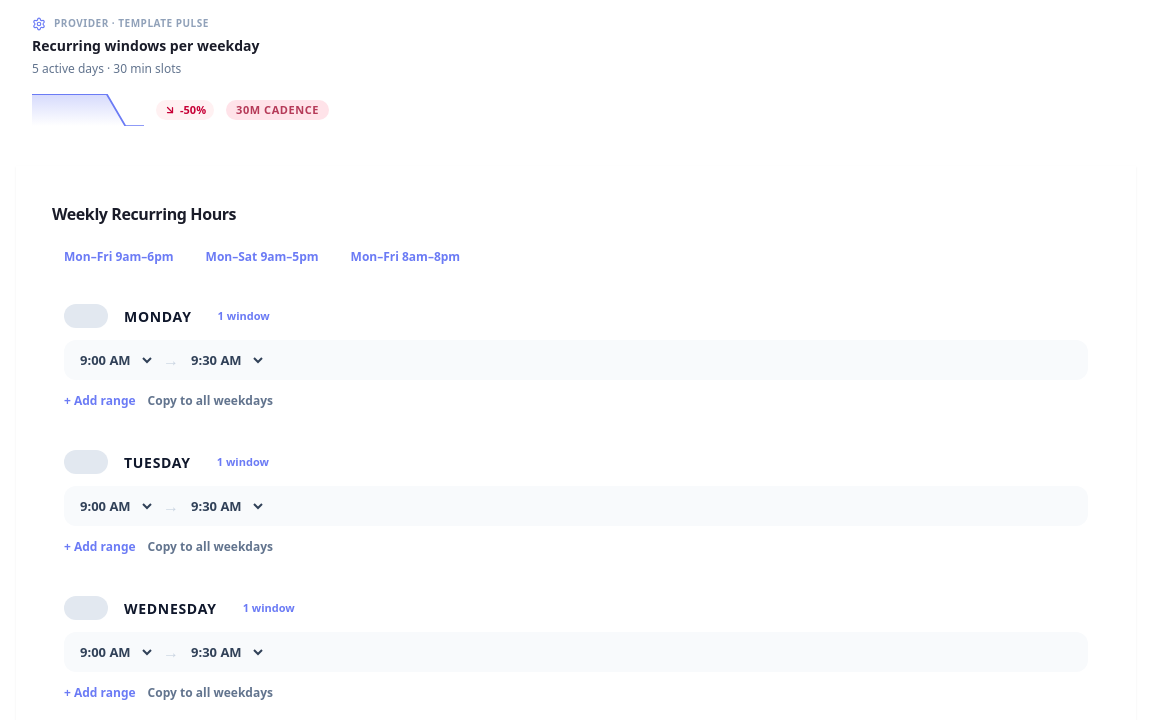
ProviderAvailability › shows error if end time is before start time
The width and height of the screenshot is (1152, 720).
(page scrolled)
Select "6:00 PM" in the 1st dropdown: (116, 360) [76,350,155,370]
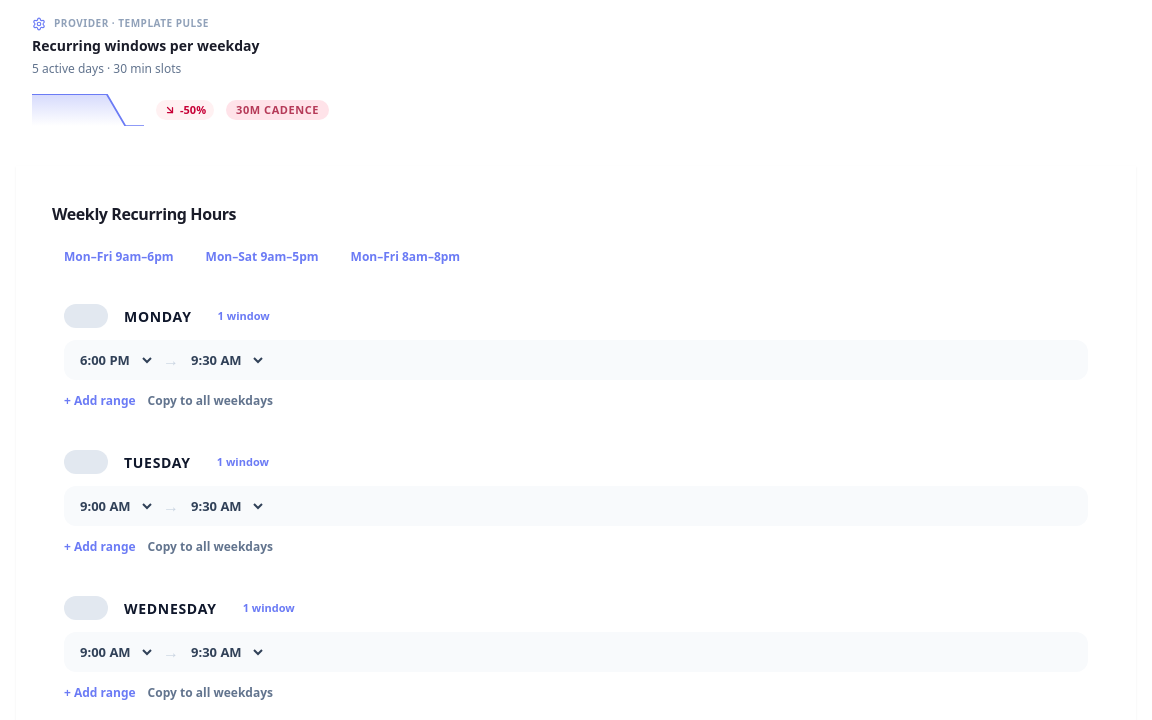
Select "9:00 AM" in the 2nd dropdown: (226, 360) [187,350,266,370]
(page scrolled)
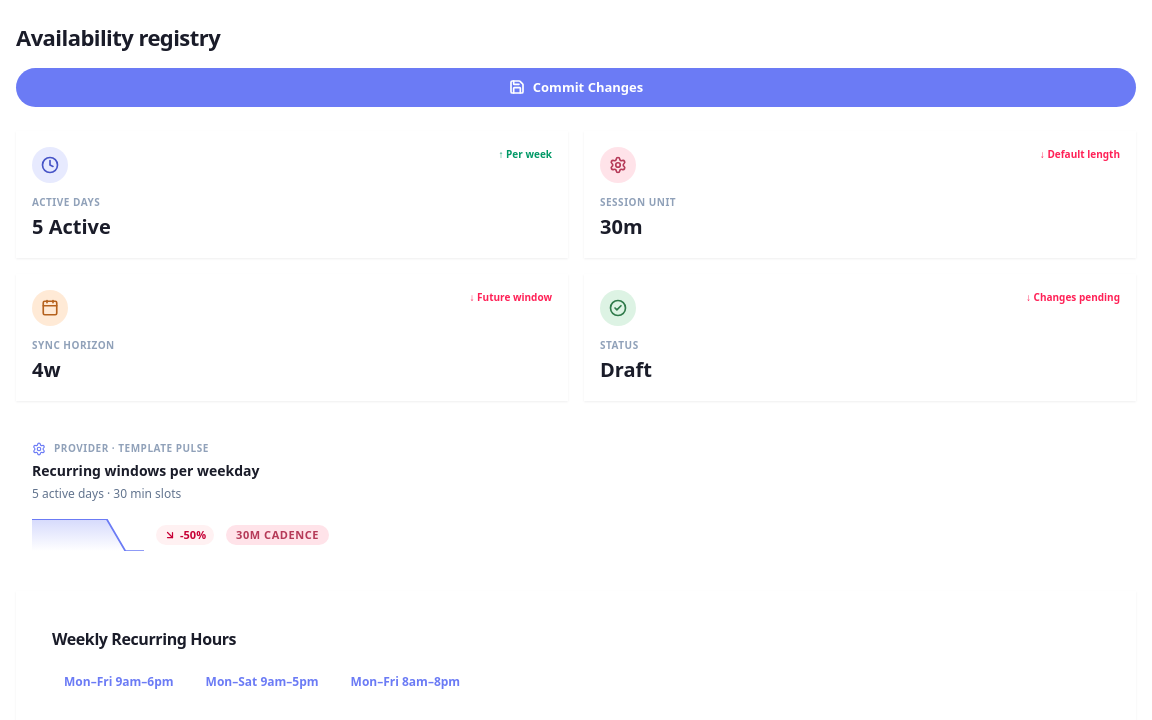
Click the button "Commit Changes": click(576, 87) [16,68,1136,107]
(page scrolled)
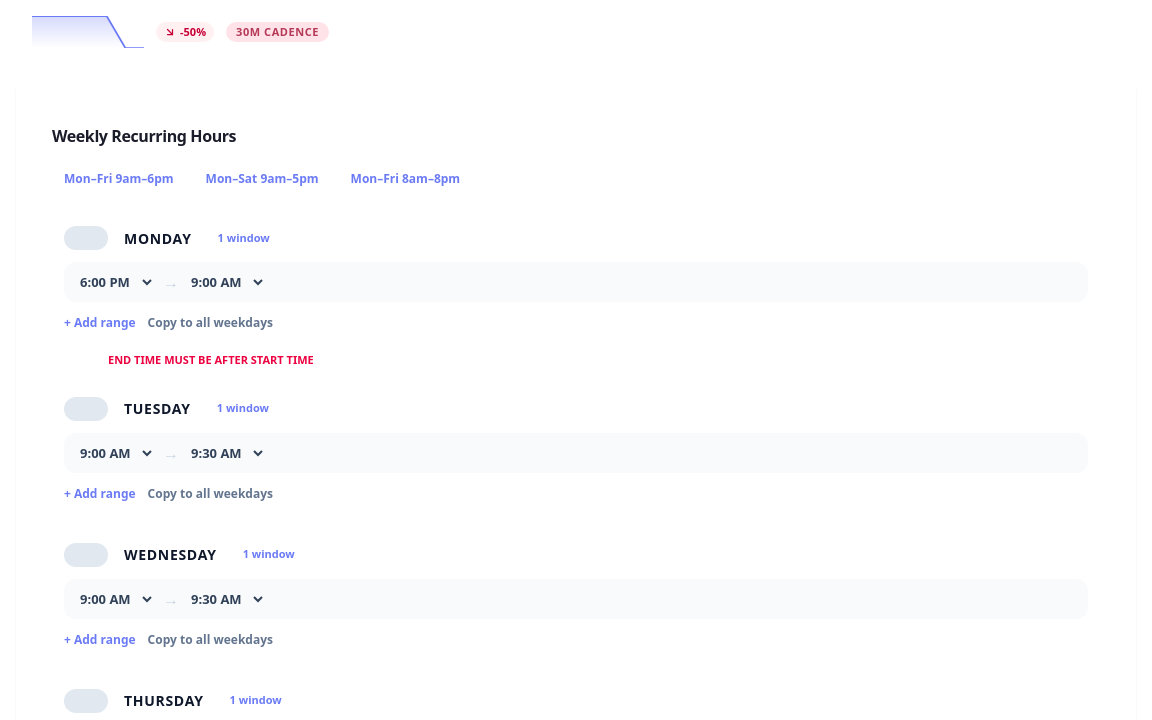
Now the text "End time must be after start time" is shown, box [108,352,314,367]
